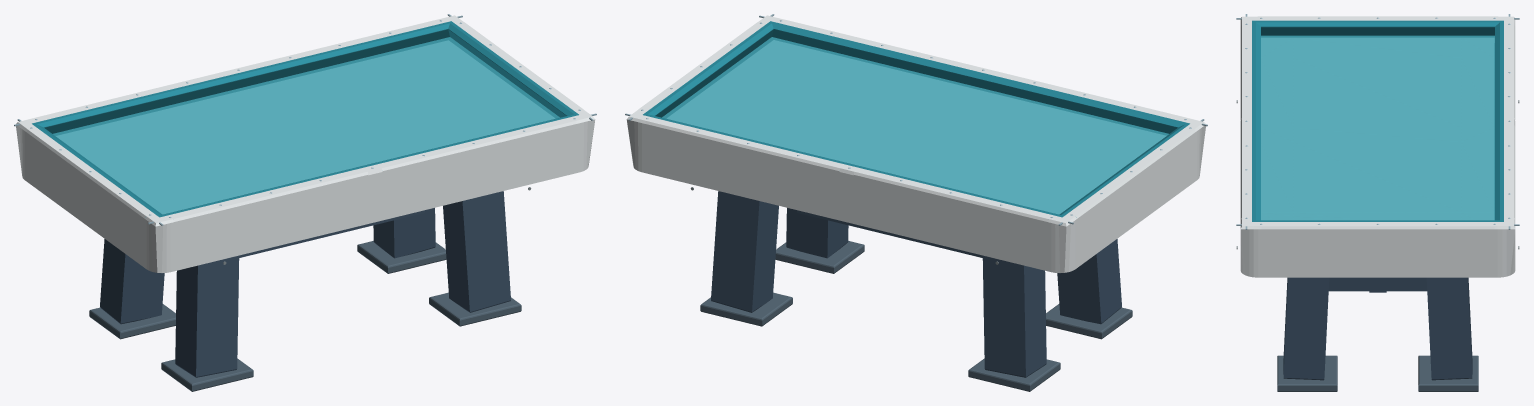
File: table-threecushion-5-chinese-ivory.glb
3 renders of one model, left to right at view 1: azimuth 30°, elevation 25°; view 2: azimuth 150°, elevation 25°; view 3: azimuth 270°, elevation 25°, orthographic.
Parts seen in each view (by area): view 1: table-threecushion-5-chinese-ivory, break-builder-table-support; view 2: table-threecushion-5-chinese-ivory, break-builder-table-support; view 3: table-threecushion-5-chinese-ivory, break-builder-table-support.
Part boxes in pixels (bbox=[...]): table-threecushion-5-chinese-ivory: bbox=[16, 15, 595, 272]; break-builder-table-support: bbox=[89, 191, 521, 391]; table-threecushion-5-chinese-ivory: bbox=[626, 15, 1205, 272]; break-builder-table-support: bbox=[700, 191, 1132, 391]; table-threecushion-5-chinese-ivory: bbox=[1240, 16, 1515, 277]; break-builder-table-support: bbox=[1277, 277, 1478, 391].
Bounding box in the file's own units: 1.71 × 0.7156 × 0.9527.
Materials: 25 (1 with a texture image).
